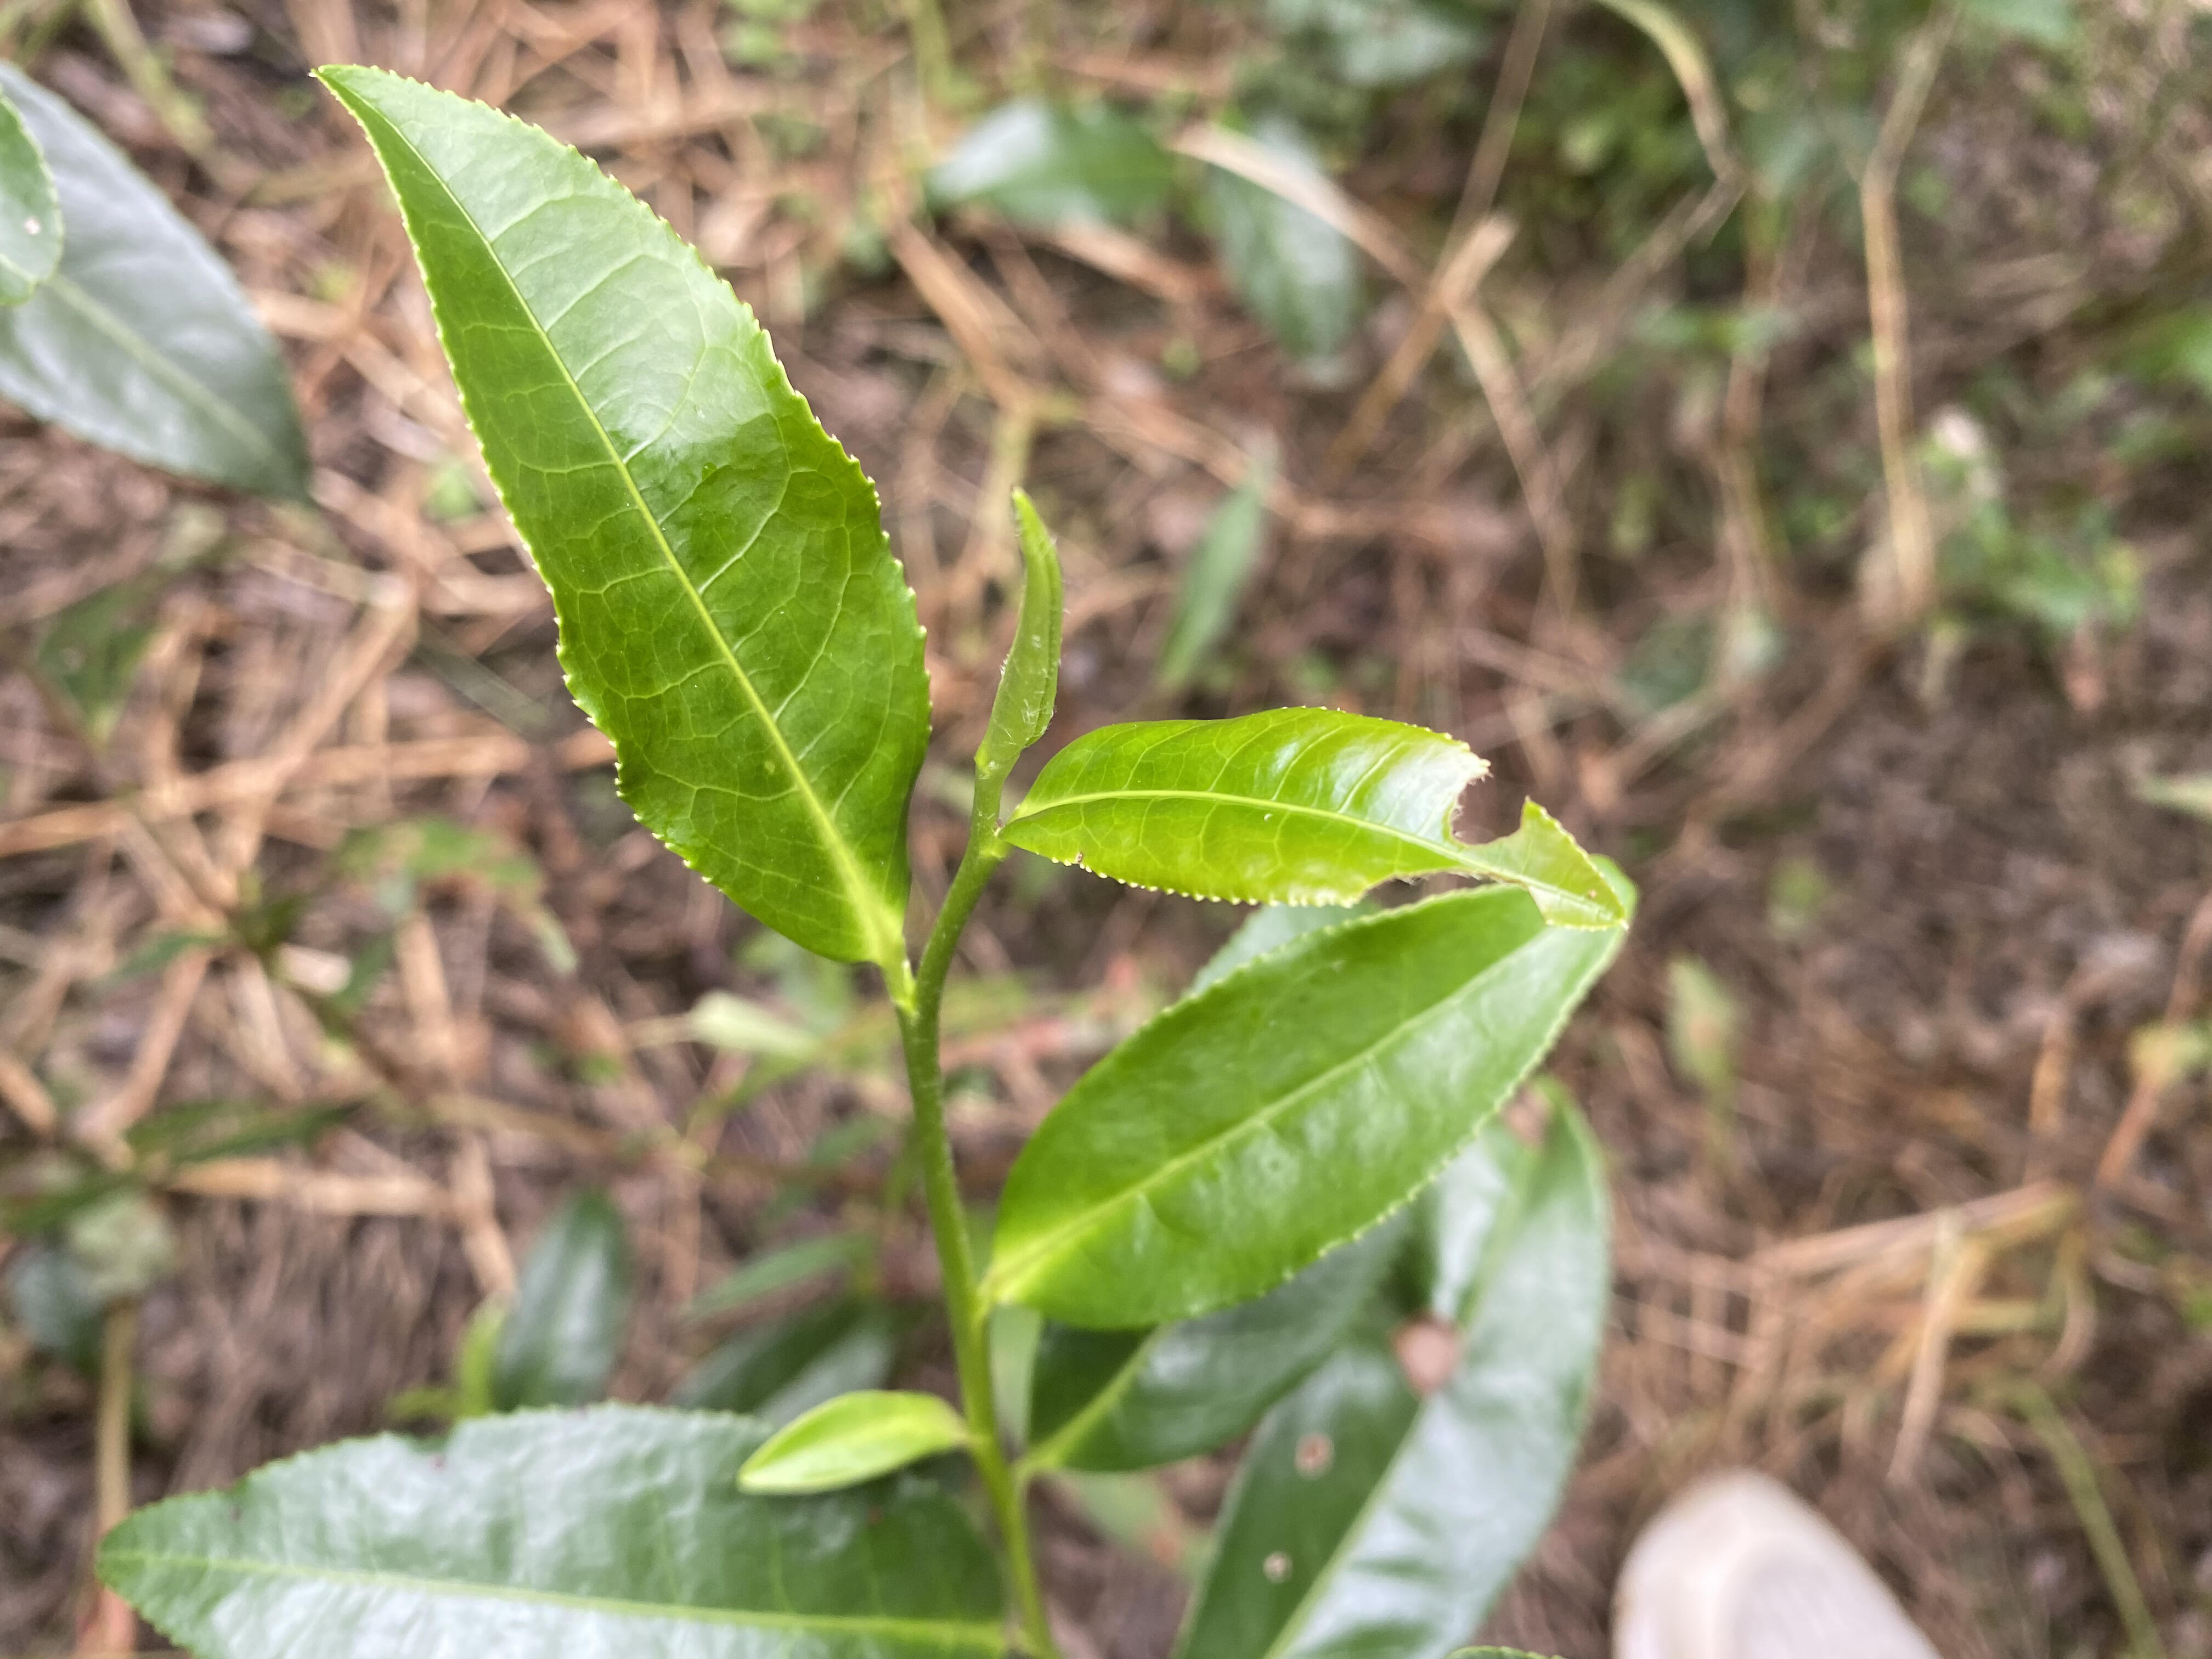chihuo_high: (1000, 701, 1618, 927)
healthy: (307, 64, 932, 962)
tanju_high: (1167, 1077, 1613, 1659)
